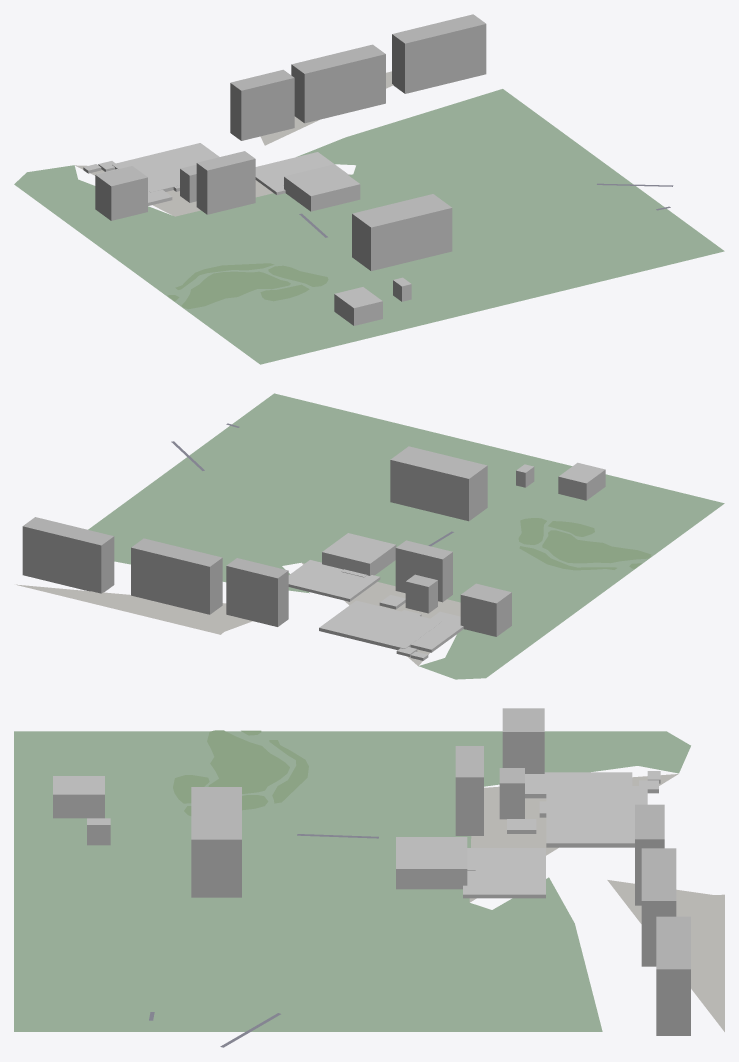
The model's file is 126_80_mid.glb.
3 renders of one model, top to bottom at view 1: azimuth 30°, elevation 25°; view 2: azimuth 150°, elevation 25°; view 3: azimuth 270°, elevation 25°, orthographic. The views are drawn at different scales.
Bounding box in the file's own units: 529 × 52.5 × 500.
